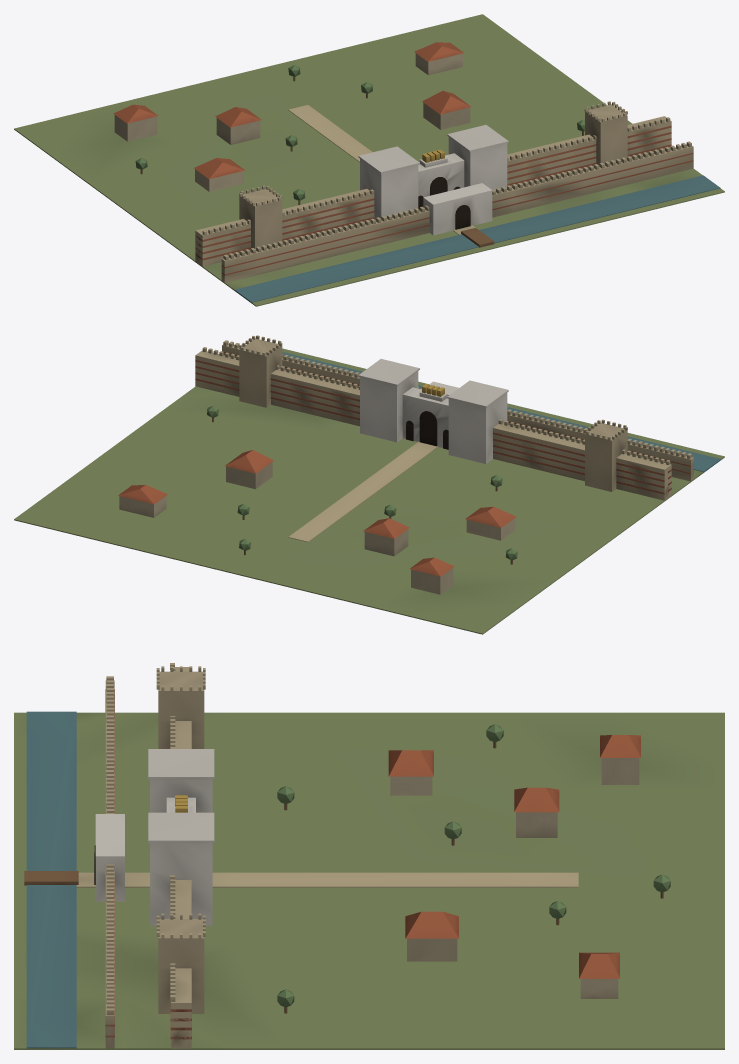
File: golden-gate.glb
The picture shows the model from 3 angles, top to bottom: view 1: azimuth 30°, elevation 25°; view 2: azimuth 150°, elevation 25°; view 3: azimuth 270°, elevation 25°; orthographic projection. The views are drawn at different scales.
Visible parts, largest first — view 1: p0_walls, p1_golden gate, p2_town; view 2: p0_walls, p1_golden gate, p2_town; view 3: p0_walls, p1_golden gate, p2_town.
Boxes of the visible parts, left/top/right/bottom form: p0_walls: left=14, top=14, right=724, bottom=306; p1_golden gate: left=195, top=104, right=671, bottom=266; p2_town: left=113, top=42, right=627, bottom=206; p0_walls: left=14, top=340, right=724, bottom=634; p1_golden gate: left=195, top=338, right=671, bottom=500; p2_town: left=118, top=335, right=627, bottom=594; p0_walls: left=14, top=676, right=724, bottom=1049; p1_golden gate: left=94, top=663, right=214, bottom=1048; p2_town: left=156, top=666, right=670, bottom=1013.
Size of the model in its own units: 190 by 23 by 170.
